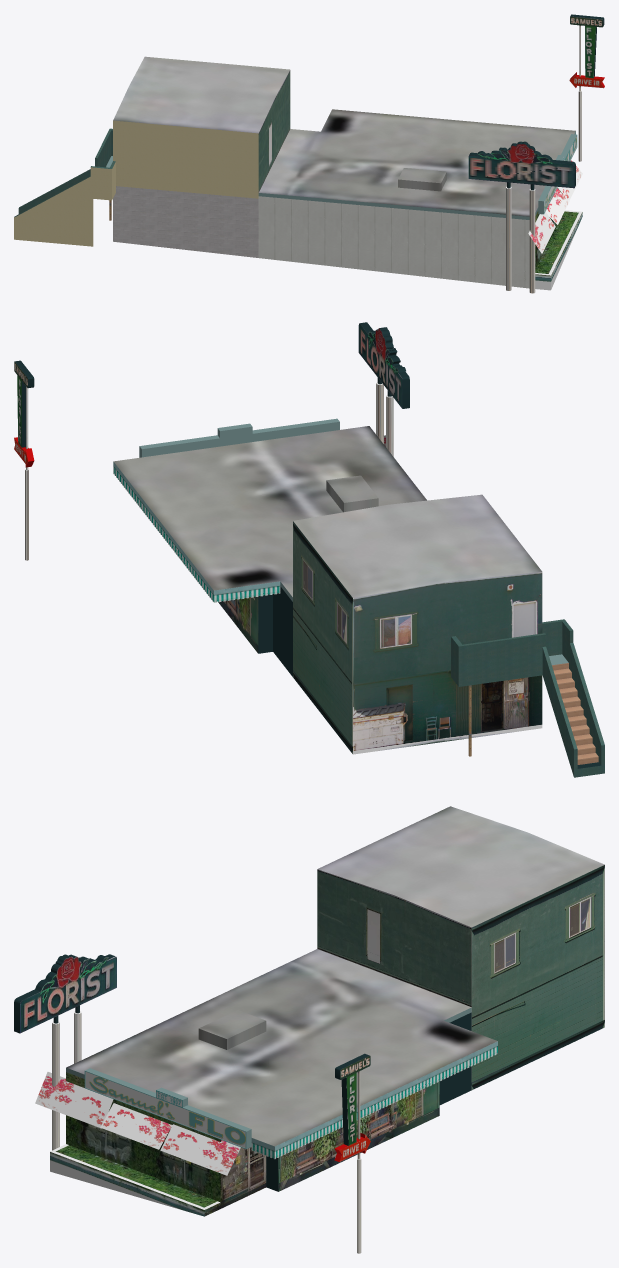
File: florist.dae
The picture shows the model from 3 angles, top to bottom: view 1: azimuth 30°, elevation 25°; view 2: azimuth 150°, elevation 25°; view 3: azimuth 270°, elevation 25°; orthographic projection. The views are drawn at different scales.
Parts seen in each view (by area): view 1: Group1, Group_2_1_2, Group_2; view 2: Group1; view 3: Group1, Group_2 (×2), Group_2_1_2.
Boxes of the visible parts, x1=… form: Group1: x1=14, y1=14, x2=604, y2=293; Group_2_1_2: x1=528, y1=211, x2=555, y2=253; Group_2: x1=545, y1=188, x2=569, y2=224; Group1: x1=14, y1=322, x2=604, y2=777; Group1: x1=14, y1=806, x2=604, y2=1253; Group_2 (×2): x1=100, y1=1103, x2=240, y2=1175; Group_2_1_2: x1=35, y1=1072, x2=113, y2=1128.
Bounding box in the file's own units: 1208 × 878 × 340.
Materials: 30 (24 with a texture image).
